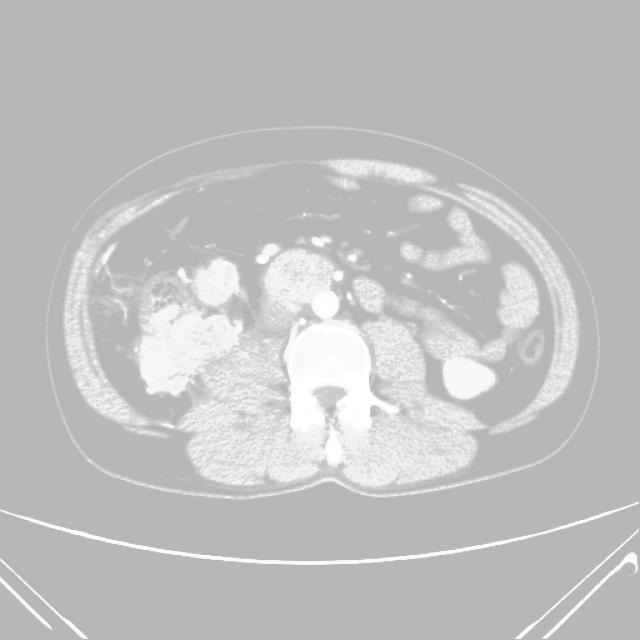TUMOR: (111, 182, 550, 412)
